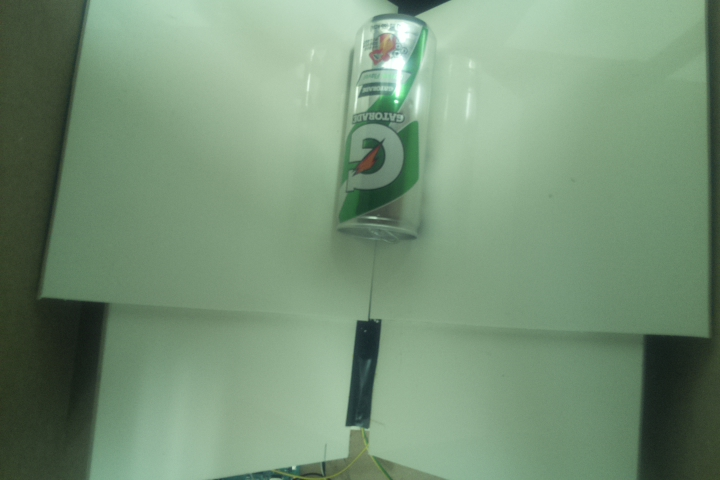can: (328, 12, 439, 244)
